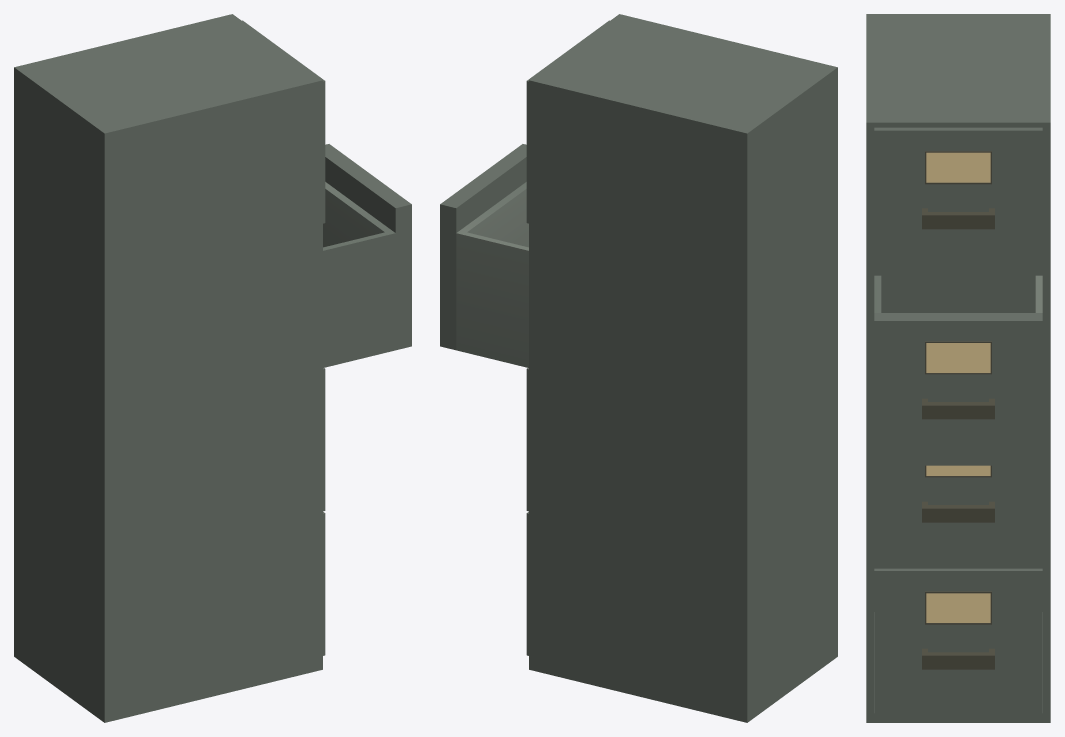
Rendered from SM_Archivador.fbx.
The picture shows the model from 3 angles, left to right: view 1: azimuth 30°, elevation 25°; view 2: azimuth 150°, elevation 25°; view 3: azimuth 270°, elevation 25°; orthographic projection.
Visible parts, largest first — view 1: Cube, Cube.003; view 2: Cube, Cube.003; view 3: Cube, Cube.003, Cube.004, Cube.002, Cube.001.
Part boxes in pixels (x1=…): Cube: x1=14, y1=14, x2=322, y2=722; Cube.003: x1=323, y1=144, x2=411, y2=367; Cube: x1=529, y1=14, x2=837, y2=722; Cube.003: x1=440, y1=144, x2=528, y2=367; Cube: x1=866, y1=14, x2=1050, y2=722; Cube.003: x1=874, y1=275, x2=1042, y2=465; Cube.004: x1=874, y1=127, x2=1042, y2=275; Cube.002: x1=874, y1=568, x2=1042, y2=715; Cube.001: x1=874, y1=465, x2=1042, y2=568.
Size of the model in its own units: 87.25 by 151 by 42.09.
